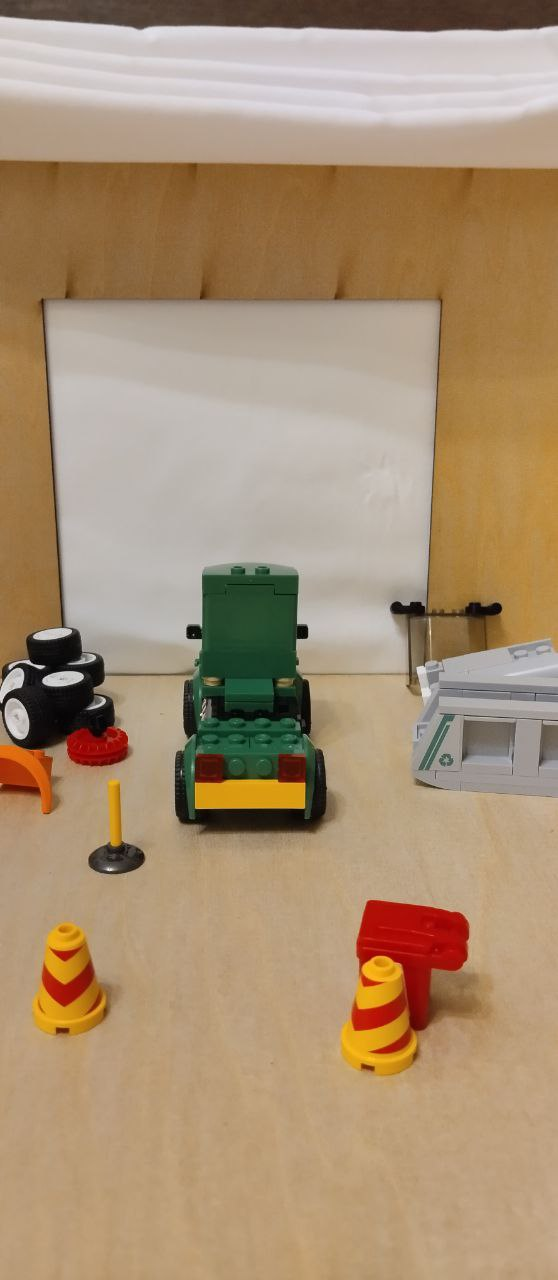Cone: (334, 945, 428, 1082), (28, 917, 122, 1044)
Object Red: (355, 890, 479, 1029)
Truck: (163, 553, 356, 838)
